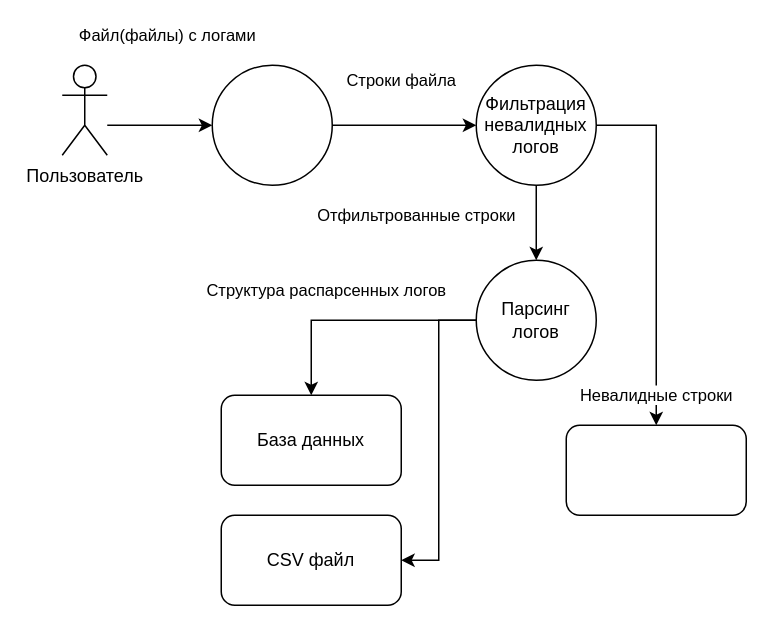
Some shapes in this 773 by 632 pixel diagram are drawn without their labels. The centre of each missing label's shape, as x and y in pixels:
"TXT файл" goes at pixel 655 469.
"Чтение файла с логами" goes at pixel 271 124.
